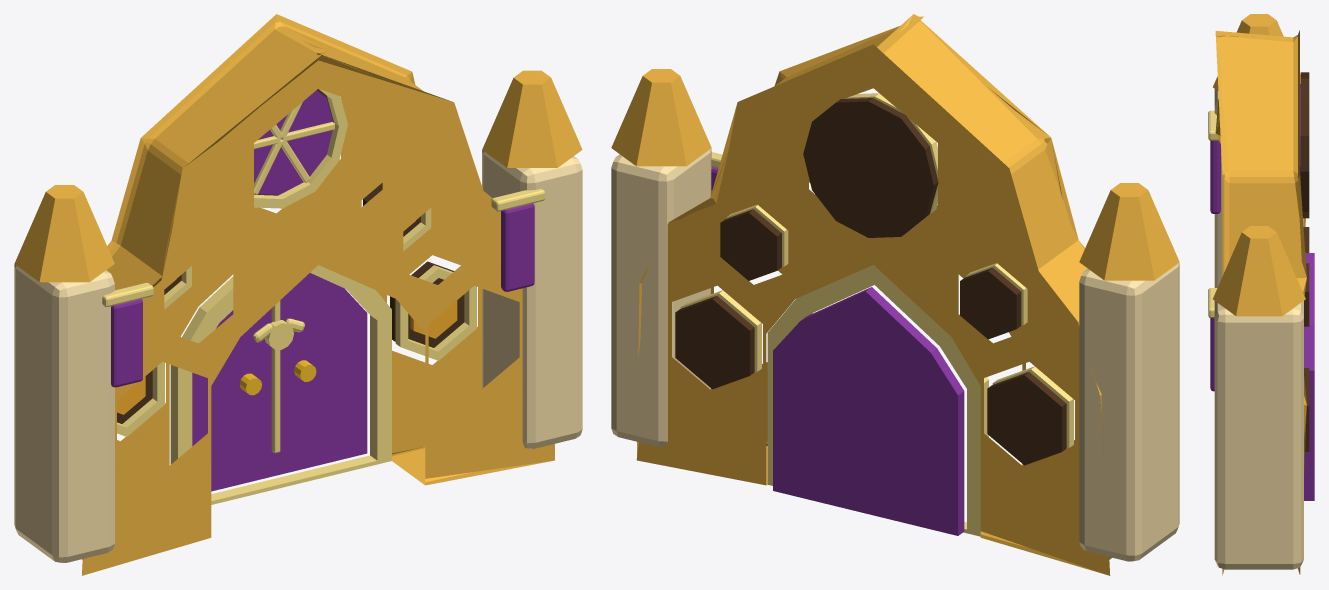
File: palace-front-facade-v001.glb
The picture shows the model from 3 angles, left to right: view 1: azimuth 30°, elevation 25°; view 2: azimuth 150°, elevation 25°; view 3: azimuth 270°, elevation 25°; orthographic projection. The views are drawn at different scales.
Visible parts, largest first — view 1: ISLAND_14_PALACE_FACADE_BLENDER_SHELL, ISLAND_14_PALACE_FACADE_BLENDER_SIDE_BUTTRESSES, ISLAND_14_PALACE_FACADE_BLENDER_ROYAL_DOOR, ISLAND_14_PALACE_FACADE_BLENDER_SIDE_BUTTRESS_CAPS, ISLAND_14_PALACE_FACADE_BLENDER_DOOR_REVEAL, ISLAND_14_PALACE_FACADE_BLENDER_BANNERS, ISLAND_14_PALACE_FACADE_BLENDER_BAYS_INNER_LINERS, ISLAND_14_PALACE_FACADE_BLENDER_ROSE_PURPLE_CORE, ISLAND_14_PALACE_FACADE_BLENDER_ROSE_INNER_LINER, ISLAND_14_PALACE_FACADE_BLENDER_BAYS_DARK_SOCKETS, ISLAND_14_PALACE_FACADE_BLENDER_ROSE_SPOKES, ISLAND_14_PALACE_FACADE_BLENDER_BANNER_ANCHORS (+4 smaller); view 2: ISLAND_14_PALACE_FACADE_BLENDER_SHELL, ISLAND_14_PALACE_FACADE_BLENDER_SIDE_BUTTRESSES, ISLAND_14_PALACE_FACADE_BLENDER_ROYAL_DOOR, ISLAND_14_PALACE_FACADE_BLENDER_BAYS_DARK_SOCKETS, ISLAND_14_PALACE_FACADE_BLENDER_ROSE_DARK_SOCKET, ISLAND_14_PALACE_FACADE_BLENDER_SIDE_BUTTRESS_CAPS, ISLAND_14_PALACE_FACADE_BLENDER_DOOR_REVEAL, ISLAND_14_PALACE_FACADE_BLENDER_BAYS_INNER_LINERS, ISLAND_14_PALACE_FACADE_BLENDER_ROSE_INNER_LINER; view 3: ISLAND_14_PALACE_FACADE_BLENDER_SIDE_BUTTRESSES, ISLAND_14_PALACE_FACADE_BLENDER_SHELL, ISLAND_14_PALACE_FACADE_BLENDER_SIDE_BUTTRESS_CAPS, ISLAND_14_PALACE_FACADE_BLENDER_ROYAL_DOOR, ISLAND_14_PALACE_FACADE_BLENDER_ROSE_DARK_SOCKET, ISLAND_14_PALACE_FACADE_BLENDER_BANNERS, ISLAND_14_PALACE_FACADE_BLENDER_BAYS_DARK_SOCKETS, ISLAND_14_PALACE_FACADE_BLENDER_BANNER_ANCHORS.
Part boxes in pixels (bbox=[...]): ISLAND_14_PALACE_FACADE_BLENDER_SHELL: bbox=[82, 14, 554, 575]; ISLAND_14_PALACE_FACADE_BLENDER_SIDE_BUTTRESSES: bbox=[14, 150, 582, 562]; ISLAND_14_PALACE_FACADE_BLENDER_ROYAL_DOOR: bbox=[192, 273, 367, 491]; ISLAND_14_PALACE_FACADE_BLENDER_SIDE_BUTTRESS_CAPS: bbox=[14, 70, 582, 282]; ISLAND_14_PALACE_FACADE_BLENDER_DOOR_REVEAL: bbox=[170, 265, 391, 504]; ISLAND_14_PALACE_FACADE_BLENDER_BANNERS: bbox=[111, 203, 534, 387]; ISLAND_14_PALACE_FACADE_BLENDER_BAYS_INNER_LINERS: bbox=[117, 207, 476, 436]; ISLAND_14_PALACE_FACADE_BLENDER_ROSE_PURPLE_CORE: bbox=[254, 90, 332, 194]; ISLAND_14_PALACE_FACADE_BLENDER_ROSE_INNER_LINER: bbox=[254, 88, 347, 208]; ISLAND_14_PALACE_FACADE_BLENDER_BAYS_DARK_SOCKETS: bbox=[117, 183, 464, 423]; ISLAND_14_PALACE_FACADE_BLENDER_ROSE_SPOKES: bbox=[254, 102, 334, 194]; ISLAND_14_PALACE_FACADE_BLENDER_BANNER_ANCHORS: bbox=[102, 188, 545, 307]; ISLAND_14_PALACE_FACADE_BLENDER_SHELL: bbox=[636, 14, 1111, 575]; ISLAND_14_PALACE_FACADE_BLENDER_SIDE_BUTTRESSES: bbox=[611, 148, 1179, 561]; ISLAND_14_PALACE_FACADE_BLENDER_ROYAL_DOOR: bbox=[773, 287, 964, 535]; ISLAND_14_PALACE_FACADE_BLENDER_BAYS_DARK_SOCKETS: bbox=[675, 209, 1066, 465]; ISLAND_14_PALACE_FACADE_BLENDER_ROSE_DARK_SOCKET: bbox=[803, 98, 938, 237]; ISLAND_14_PALACE_FACADE_BLENDER_SIDE_BUTTRESS_CAPS: bbox=[611, 69, 1179, 280]; ISLAND_14_PALACE_FACADE_BLENDER_DOOR_REVEAL: bbox=[767, 265, 988, 536]; ISLAND_14_PALACE_FACADE_BLENDER_BAYS_INNER_LINERS: bbox=[680, 204, 1073, 448]; ISLAND_14_PALACE_FACADE_BLENDER_ROSE_INNER_LINER: bbox=[844, 93, 937, 229]; ISLAND_14_PALACE_FACADE_BLENDER_SIDE_BUTTRESSES: bbox=[1214, 89, 1303, 569]; ISLAND_14_PALACE_FACADE_BLENDER_SHELL: bbox=[1215, 30, 1306, 575]; ISLAND_14_PALACE_FACADE_BLENDER_SIDE_BUTTRESS_CAPS: bbox=[1213, 14, 1305, 316]; ISLAND_14_PALACE_FACADE_BLENDER_ROYAL_DOOR: bbox=[1304, 253, 1314, 500]; ISLAND_14_PALACE_FACADE_BLENDER_ROSE_DARK_SOCKET: bbox=[1300, 72, 1309, 211]; ISLAND_14_PALACE_FACADE_BLENDER_BANNERS: bbox=[1210, 140, 1220, 391]; ISLAND_14_PALACE_FACADE_BLENDER_BAYS_DARK_SOCKETS: bbox=[1302, 212, 1309, 451]; ISLAND_14_PALACE_FACADE_BLENDER_BANNER_ANCHORS: bbox=[1208, 110, 1219, 317].
Size of the model in its own units: 3 by 2.5 by 0.5475.
